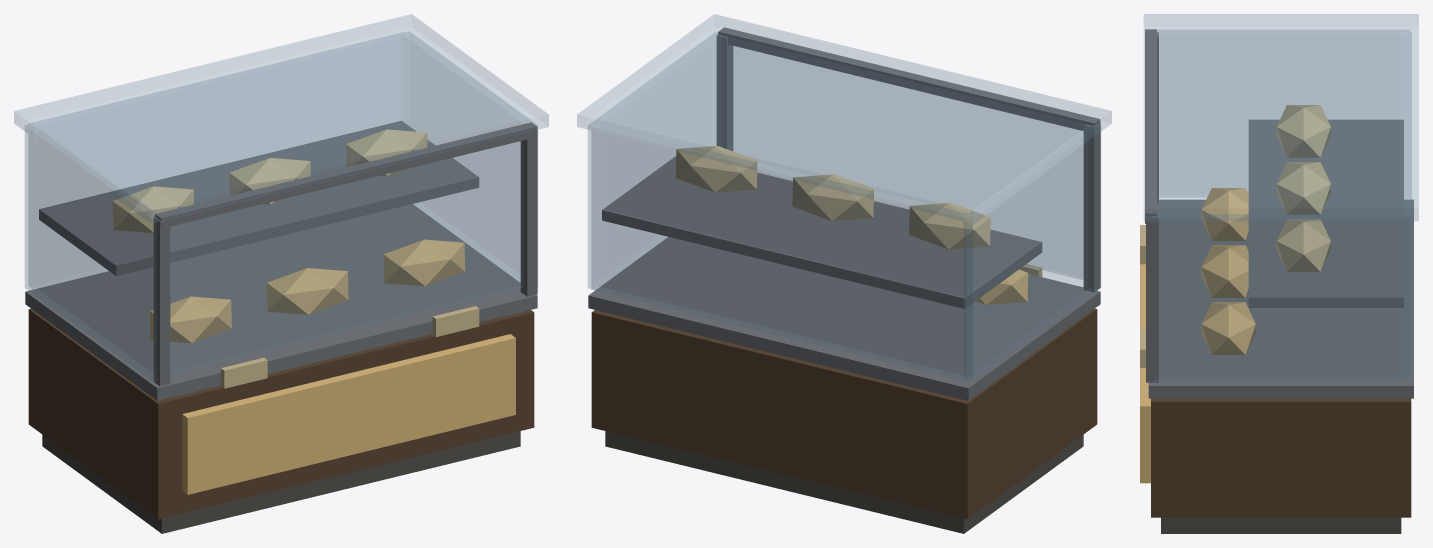
File: prop-bakery-case.glb
3 views of the same model, side by side, from view 1: azimuth 30°, elevation 25°; view 2: azimuth 150°, elevation 25°; view 3: azimuth 270°, elevation 25° (orthographic).
Visible parts, largest first — view 1: bakery_case; view 2: bakery_case; view 3: bakery_case.
Part boxes in pixels (<box>): bakery_case: <box>14,14,548,533</box>; bakery_case: <box>577,14,1111,533</box>; bakery_case: <box>1140,14,1418,533</box>.
Bounding box in the file's own units: 0.92 × 0.738 × 0.557.
